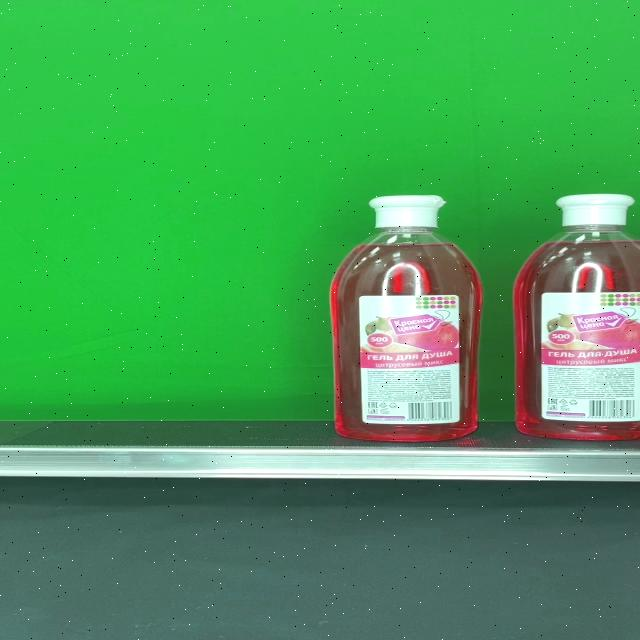Bottle: (330, 195, 483, 442), (515, 193, 640, 441)
Cap: (369, 195, 447, 229), (554, 194, 636, 226)
